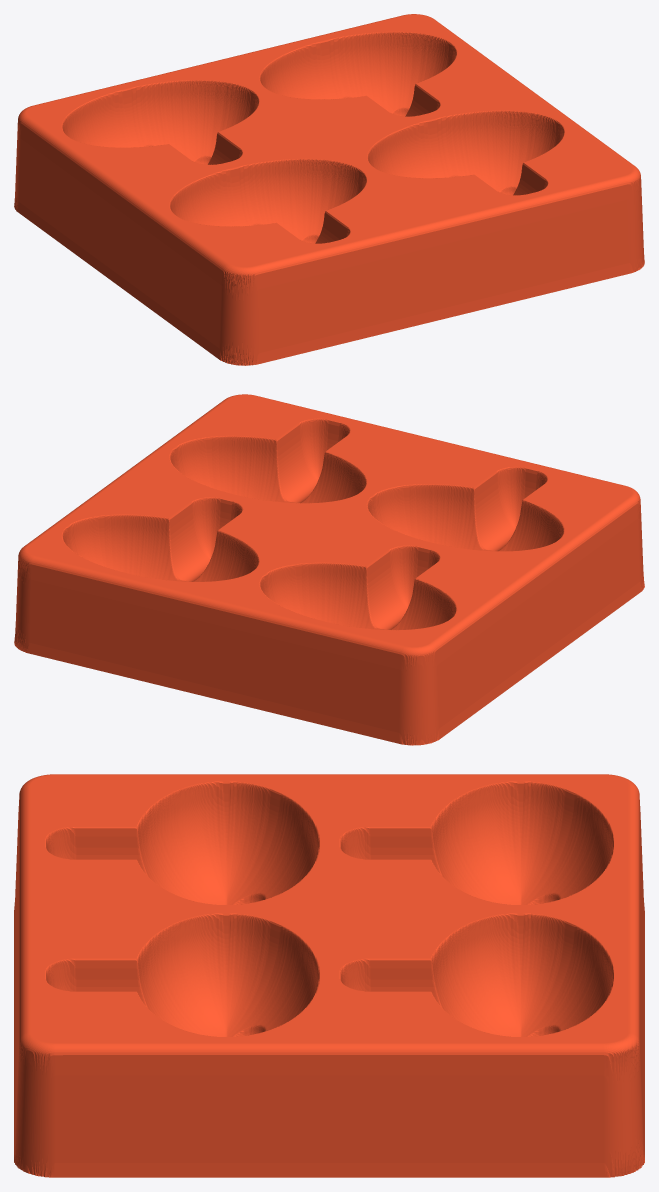
Rendered from mold.glb.
3 renders of one model, top to bottom at view 1: azimuth 30°, elevation 25°; view 2: azimuth 150°, elevation 25°; view 3: azimuth 270°, elevation 25°, orthographic. The views are drawn at different scales.
Visible parts, largest first — view 1: geometry_0; view 2: geometry_0; view 3: geometry_0.
Part boxes in pixels (left/top/right/bottom): geometry_0: left=14, top=14, right=644, bottom=365; geometry_0: left=14, top=394, right=644, bottom=745; geometry_0: left=14, top=774, right=644, bottom=1177.
Size of the model in its own units: 0.1466 by 0.031 by 0.1388.
